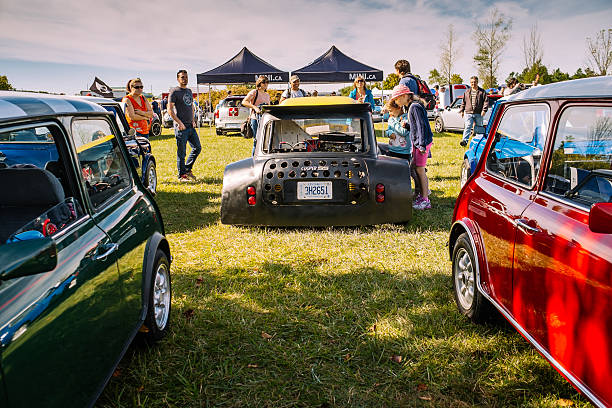licence: (292, 175, 337, 201)
